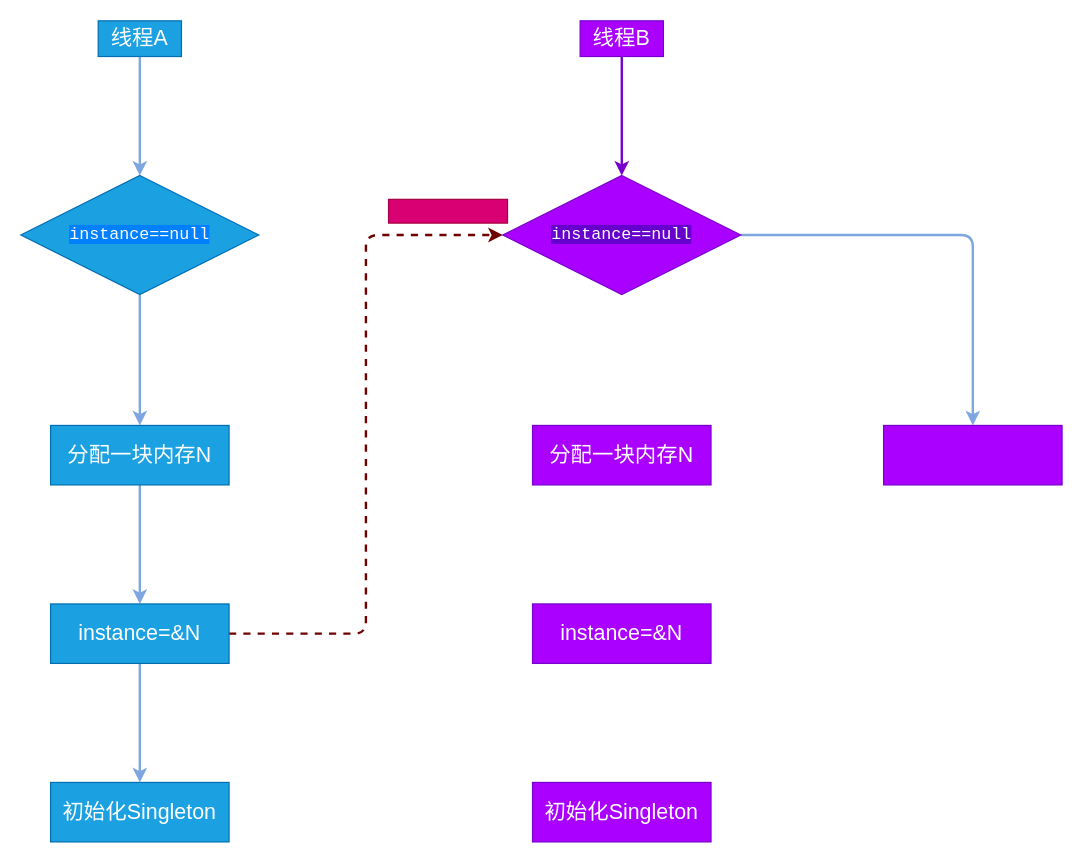
Some shapes in this 1083 by 863 pixel diagram are drawn without their labels. Here are the shapes that lost their labels. From the top down, the centre of each, then its label:
At [447,210]: "线程切换".
At [972,454]: "返回未初始化的 instance".
